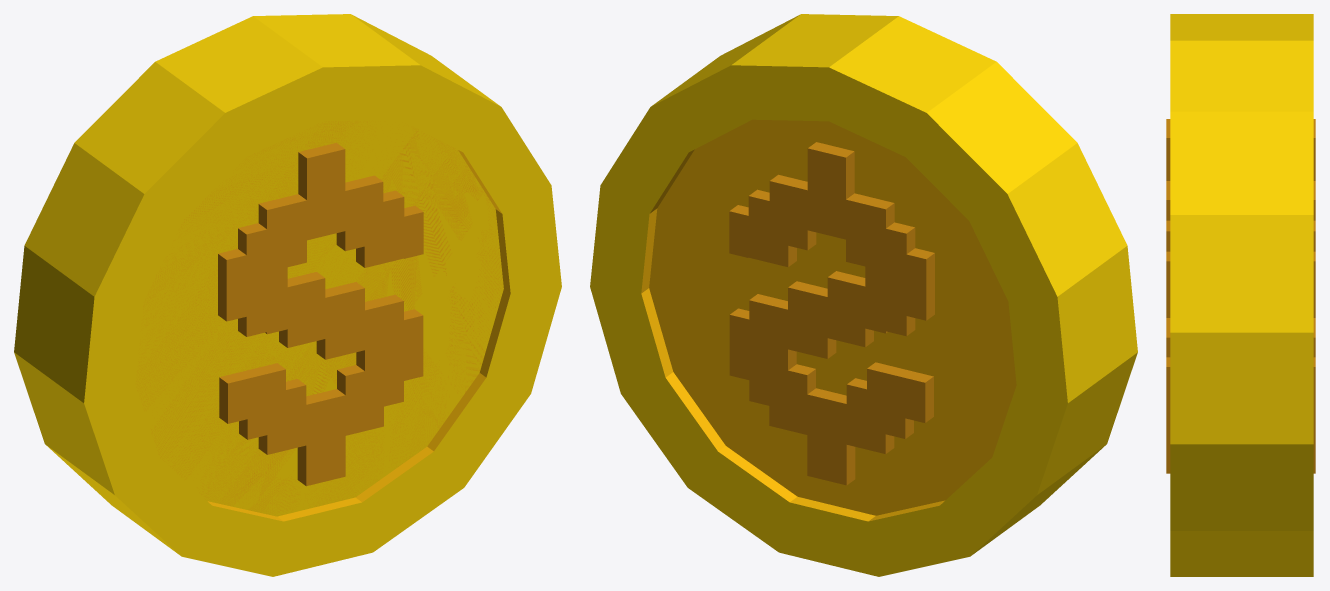
The model's file is Coin.fbx.
The picture shows the model from 3 angles, left to right: view 1: azimuth 30°, elevation 25°; view 2: azimuth 150°, elevation 25°; view 3: azimuth 270°, elevation 25°; orthographic projection. The views are drawn at different scales.
Visible parts, largest first — view 1: Cylinder, Cube; view 2: Cylinder, Cube; view 3: Cylinder, Cube.
Part boxes in pixels (x1,y1,x2,y2): Cylinder: (14, 14, 561, 576); Cube: (218, 143, 423, 486); Cylinder: (590, 14, 1137, 576); Cube: (729, 142, 934, 485); Cylinder: (1170, 14, 1313, 576); Cube: (1166, 119, 1315, 473).
Bounding box in the file's own units: 199 × 198 × 52.47.
